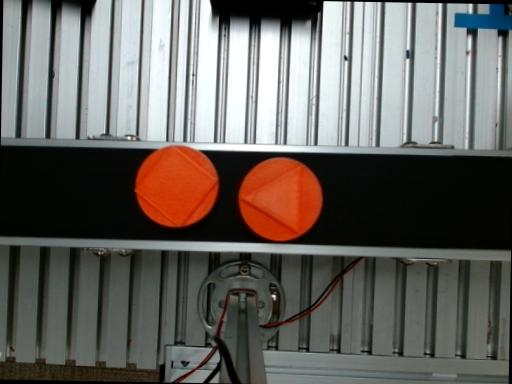Not_Square: (241, 163, 303, 236)
Orange_Waper: (239, 157, 323, 241), (135, 147, 218, 227)
Square: (135, 145, 217, 228)
